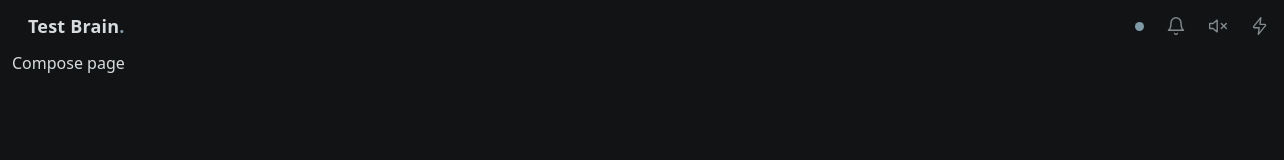
Test case: Shell — review bell dropdown › Notification History link navigates to /notifications and closes the menu
Click the button named "to review": (1176, 26) [1160,10,1192,42]
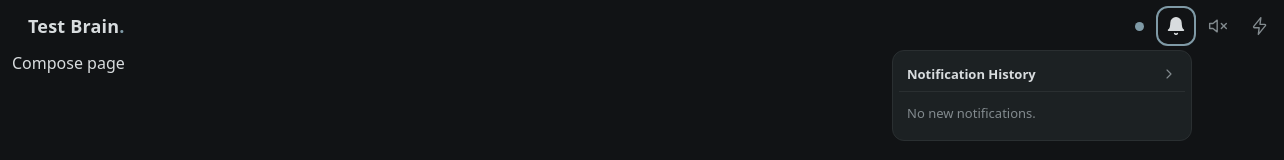
Click the button "Notification History": (971, 74) [899,57,1185,92]
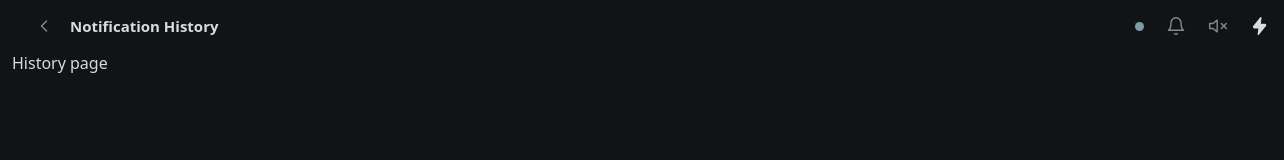
Check: the text "History page" is shown, box [12,52,108,74]
